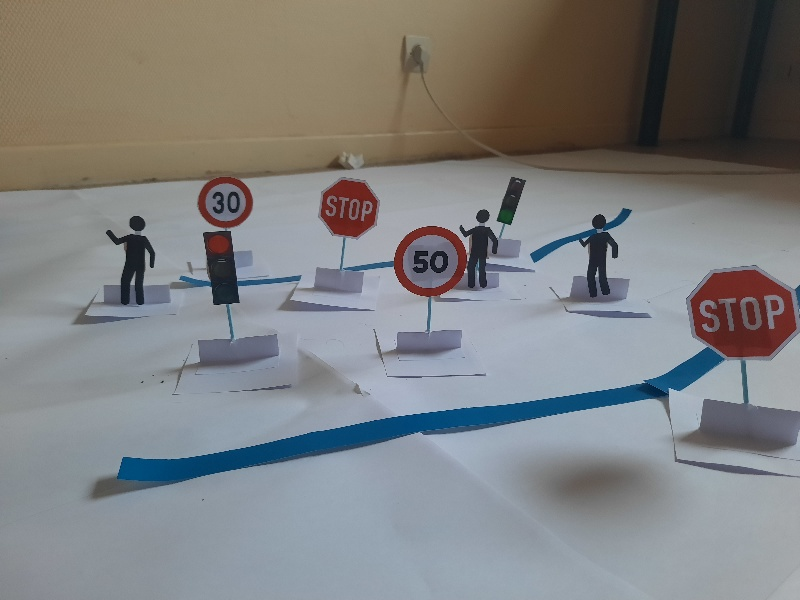Green: (500, 177, 525, 226)
Limit 30: (197, 176, 255, 228)
Limit 50: (393, 227, 466, 297)
Person: (104, 215, 162, 306), (575, 211, 619, 303), (459, 211, 498, 289)
Red: (199, 231, 244, 306)
Stop: (684, 265, 800, 362), (314, 175, 380, 241)
